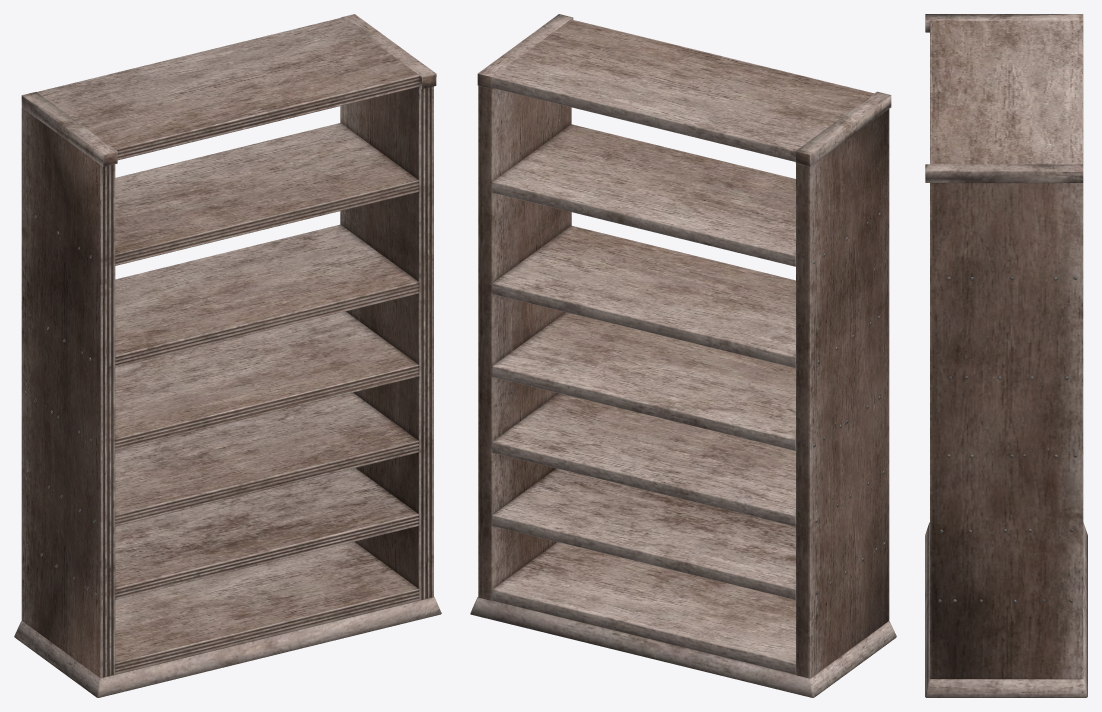
File: wooden_bookshelf_worn.glb
3 views of the same model, side by side, from view 1: azimuth 30°, elevation 25°; view 2: azimuth 150°, elevation 25°; view 3: azimuth 270°, elevation 25° (orthographic). The views are drawn at different scales.
Visible parts, largest first — view 1: wooden_bookshelf_worn; view 2: wooden_bookshelf_worn; view 3: wooden_bookshelf_worn.
Part boxes in pixels (x1,y1,x2,y2): wooden_bookshelf_worn: [14, 14, 441, 697]; wooden_bookshelf_worn: [470, 14, 896, 697]; wooden_bookshelf_worn: [925, 14, 1087, 697].
Bounding box in the file's own units: 1.37 × 2.06 × 0.5814.
1 material, 1 textured.
